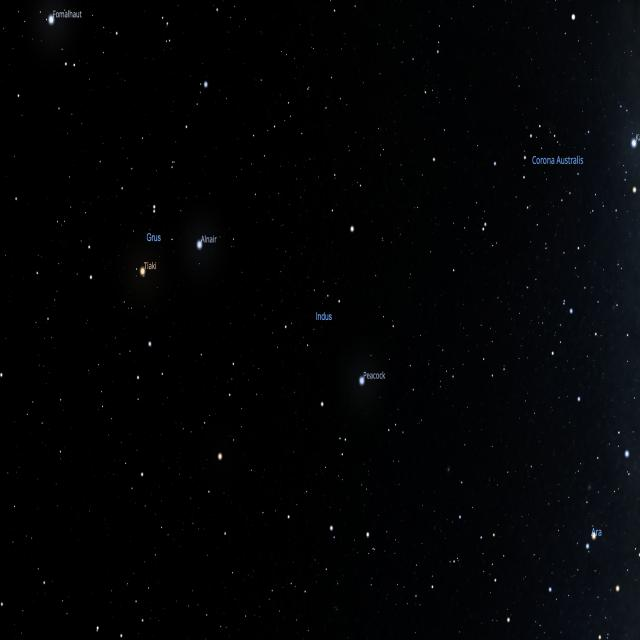Indus: (279, 219, 358, 413)
